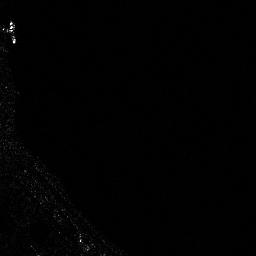ship: (8, 20, 17, 46)
